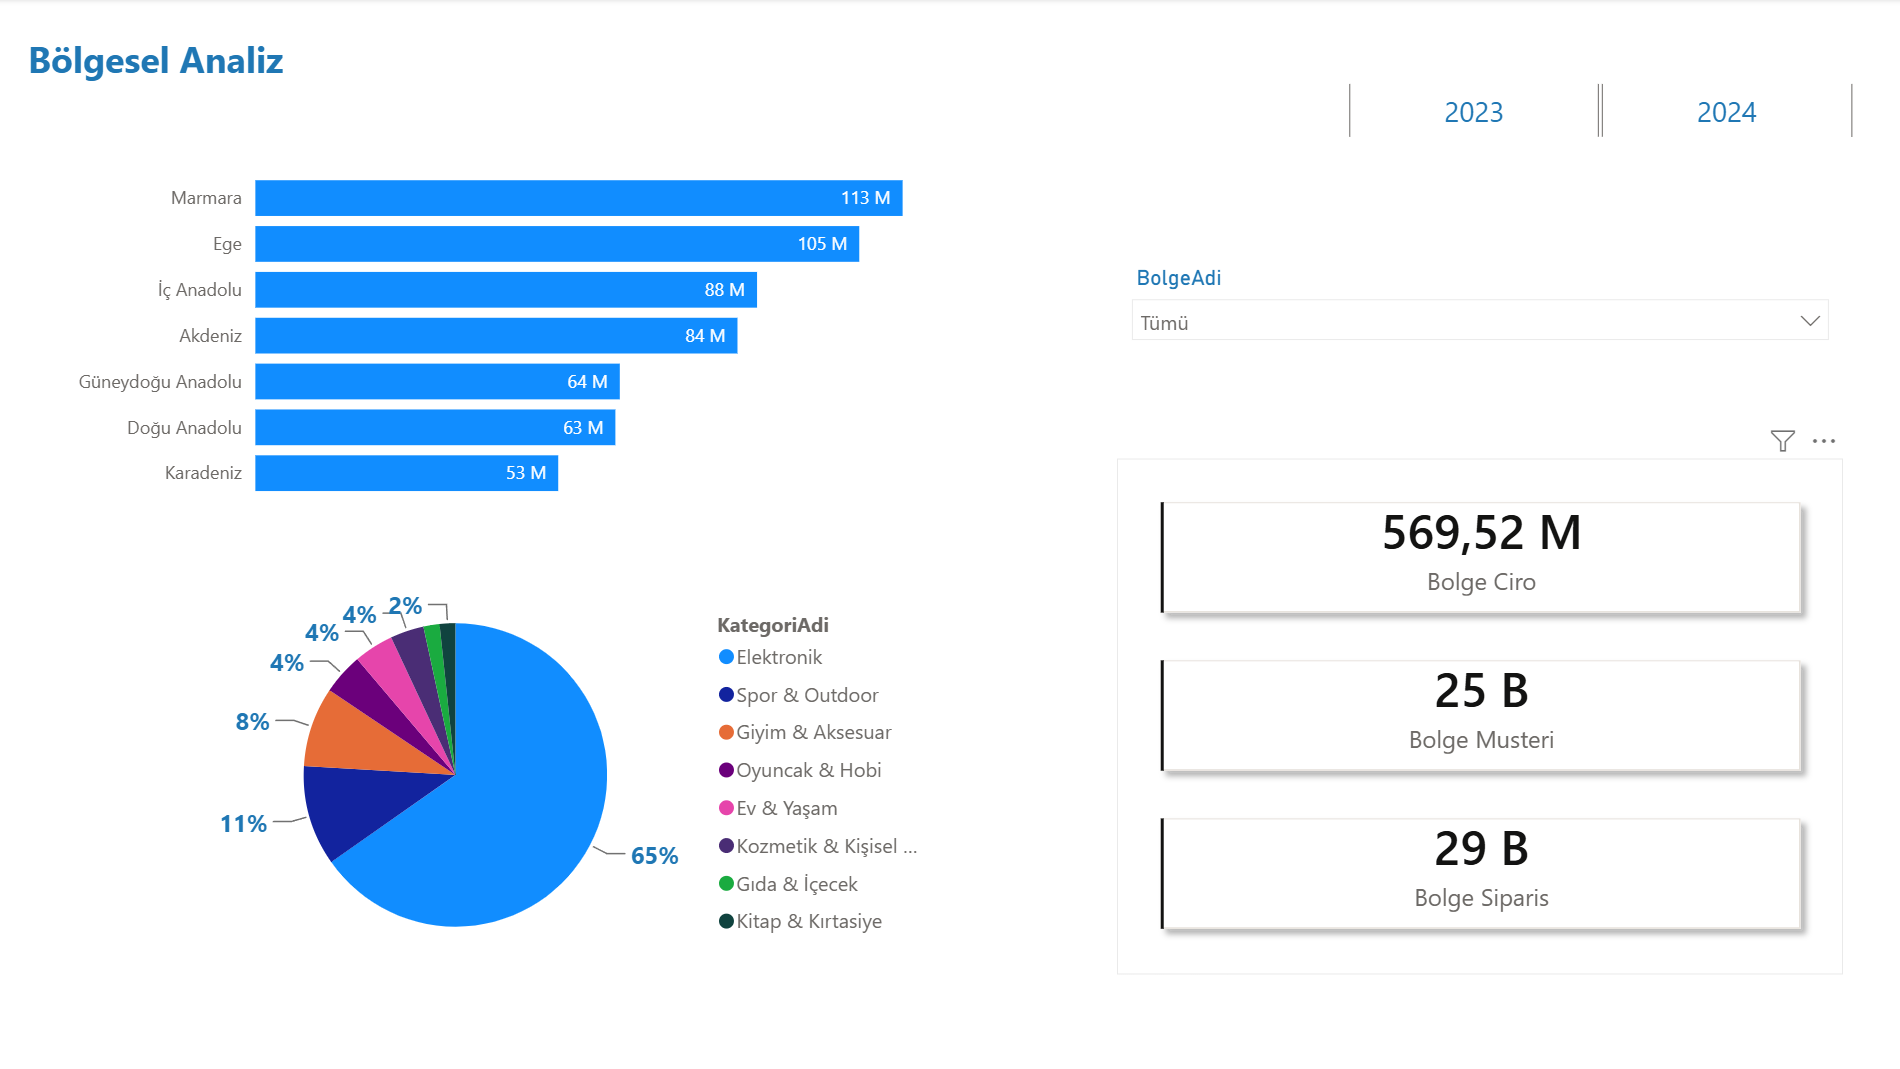

The dashboard page shown, as its layout file describes it:
{"tool":"powerbi","page":{"name":"Bölgesel Analiz","canvas":[1280,720],"ordinal":2},"visuals":[{"type":"textbox","box":[17.1,19.1,237.5,49.3],"z":0},{"type":"clusteredBarChart","fields":{"Category":["VW_BolgeselSatis.BolgeAdi"],"Y":["Sum(VW_BolgeselSatis.ToplamCiro)"]},"box":[42.3,96.6,597.9,251.6],"z":1000},{"type":"cardVisual","fields":{"Data":["VW_BolgeselSatis.Bolge Ciro","VW_BolgeselSatis.Bolge Musteri","VW_BolgeselSatis.Bolge Siparis"]},"box":[751.9,309,487.2,345.3],"z":2000},{"type":"slicer","fields":{"Values":["VW_BolgeselSatis.BolgeAdi"]},"box":[752.3,173.8,487.4,81.7],"z":3000},{"type":"pieChart","fields":{"Category":["VW_BolgeselSatis.KategoriAdi"],"Y":["Sum(VW_BolgeselSatis.ToplamCiro)"]},"box":[127.8,369.4,512.3,303],"z":4000},{"type":"slicer","fields":{"Values":["VW_BolgeselSatis.Yil"]},"box":[881.6,50.7,387,49.7],"z":5000}]}

Visuals, with their boxes in screenshot pixels (x1, y1, x2, y2), scaled from the page's 1280x720 canvas onto the 1900x1069 screenshot:
textbox: x1=25 y1=28 x2=378 y2=102
clusteredBarChart - VW_BolgeselSatis.BolgeAdi x Sum(VW_BolgeselSatis.ToplamCiro): x1=63 y1=143 x2=950 y2=517
cardVisual - VW_BolgeselSatis.Bolge Ciro x VW_BolgeselSatis.Bolge Musteri: x1=1116 y1=459 x2=1839 y2=971
slicer - VW_BolgeselSatis.BolgeAdi: x1=1117 y1=258 x2=1840 y2=379
pieChart - VW_BolgeselSatis.KategoriAdi x Sum(VW_BolgeselSatis.ToplamCiro): x1=190 y1=548 x2=950 y2=998
slicer - VW_BolgeselSatis.Yil: x1=1309 y1=75 x2=1883 y2=149
